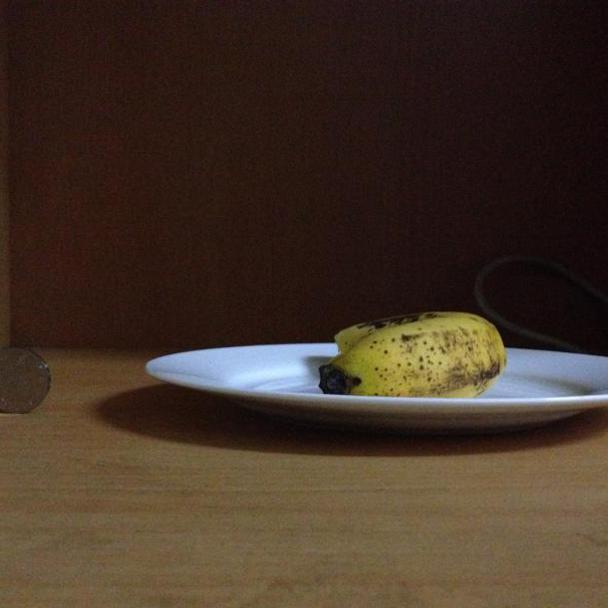banana: (315, 308, 507, 397)
